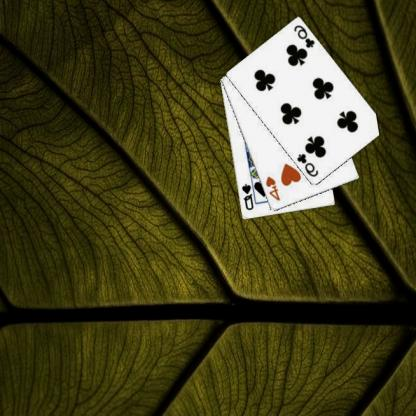4H: (265, 174, 283, 202)
6C: (296, 151, 321, 179), (293, 22, 318, 50)
QS: (240, 181, 257, 212)
